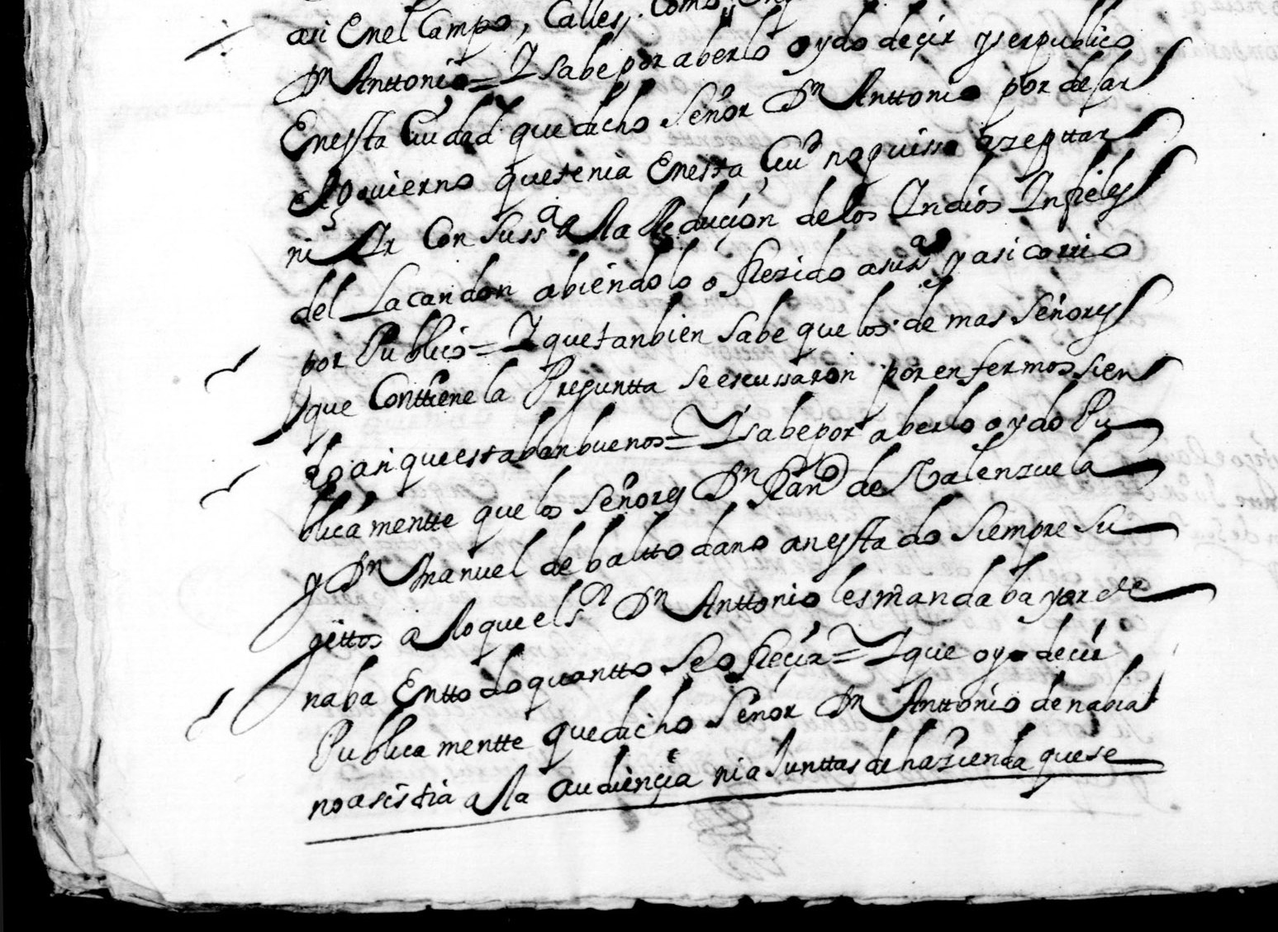lacandon: (339, 252, 517, 322)
